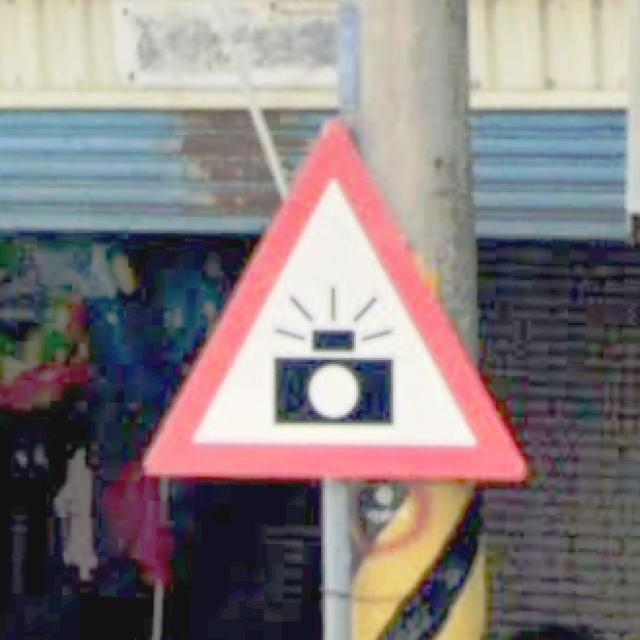speedcamera: (138, 112, 529, 486)
